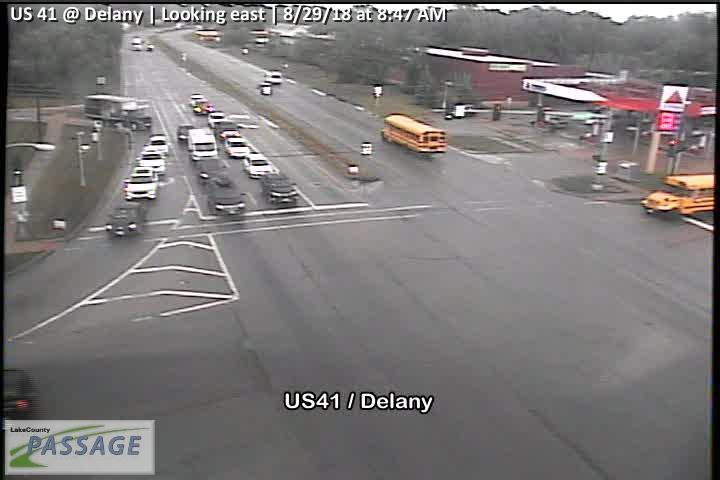Bus: (638, 171, 716, 218), (380, 112, 448, 153)
Sedan: (123, 167, 159, 202), (241, 151, 275, 177), (135, 149, 165, 176), (141, 133, 170, 155), (223, 135, 250, 156), (214, 120, 242, 138), (207, 111, 225, 127)
Truck: (84, 92, 152, 132), (186, 127, 220, 161)
